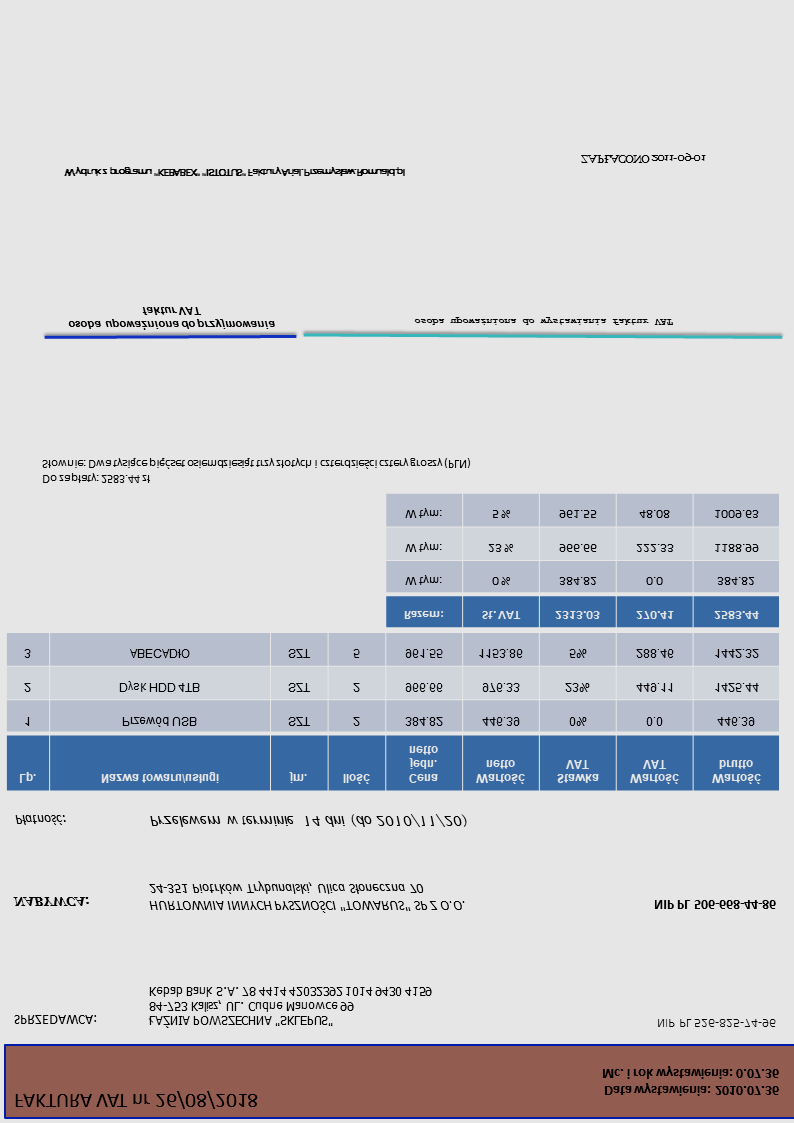Table: (5, 631, 781, 793), (384, 492, 781, 629)
TextBox: (40, 455, 473, 488), (146, 984, 435, 1031), (146, 881, 467, 915), (599, 1065, 783, 1099), (67, 304, 279, 331), (12, 1088, 260, 1111), (61, 165, 408, 180), (148, 813, 470, 829), (411, 315, 676, 329), (651, 896, 779, 913), (578, 151, 709, 167), (655, 1015, 779, 1031), (11, 1013, 99, 1029), (11, 894, 93, 910), (12, 813, 67, 828)
